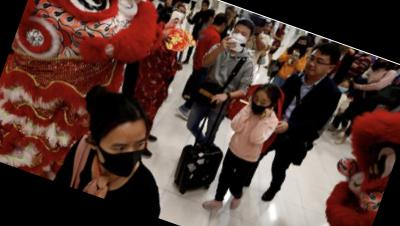with_mask: (93, 123, 151, 182), (246, 91, 273, 120), (164, 15, 186, 42), (228, 27, 251, 52), (337, 83, 350, 95), (175, 8, 187, 21), (296, 39, 308, 51)
without_mask: (302, 50, 333, 80), (264, 23, 273, 35), (201, 3, 211, 12), (278, 22, 285, 30)
